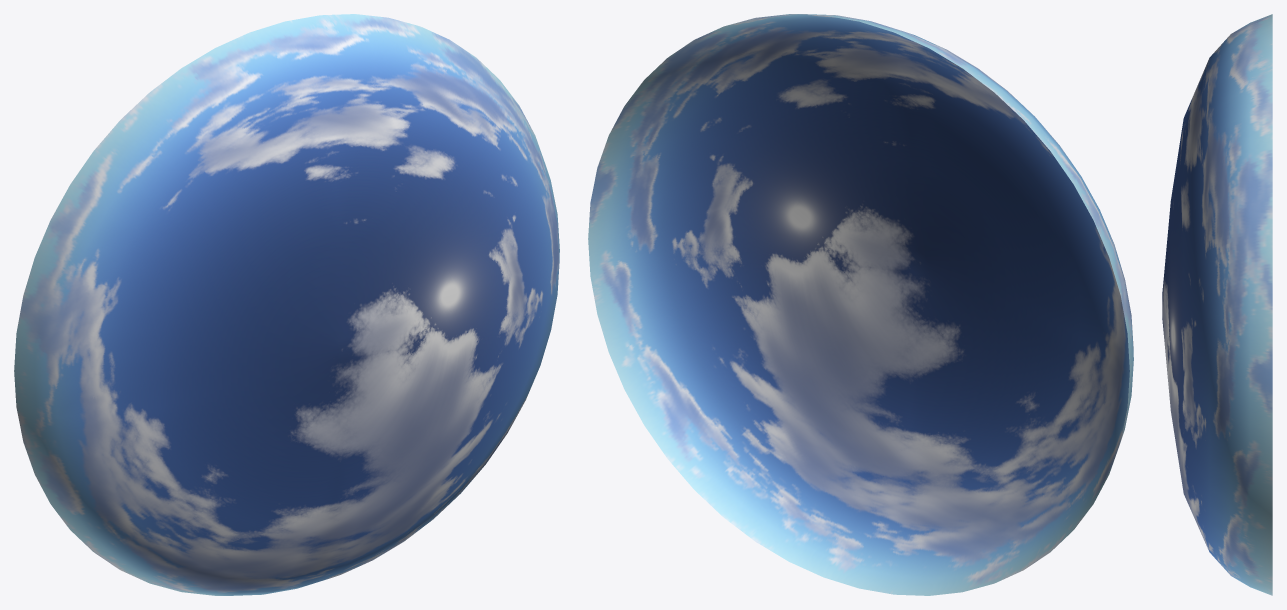
Rendered from skytop.obj.
3 views of the same model, side by side, from view 1: azimuth 30°, elevation 25°; view 2: azimuth 150°, elevation 25°; view 3: azimuth 270°, elevation 25° (orthographic). The views are drawn at different scales.
Size of the model in its own units: 1751 by 1751 by 332.
Materials: 1 (1 with a texture image).
